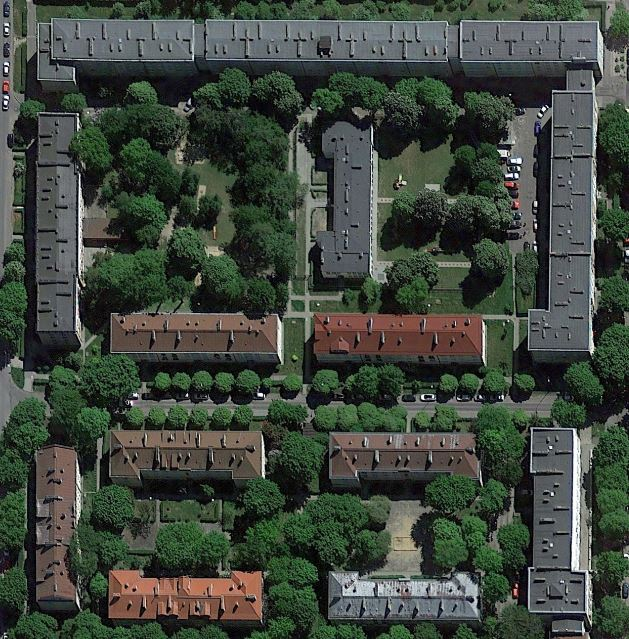block of flats: (35, 13, 608, 98), (523, 90, 601, 364), (520, 422, 594, 636), (33, 107, 84, 350), (102, 564, 269, 632), (106, 308, 288, 367), (316, 115, 379, 283), (324, 429, 493, 491), (105, 422, 269, 485), (309, 312, 491, 365), (324, 568, 485, 627), (30, 443, 81, 613)
